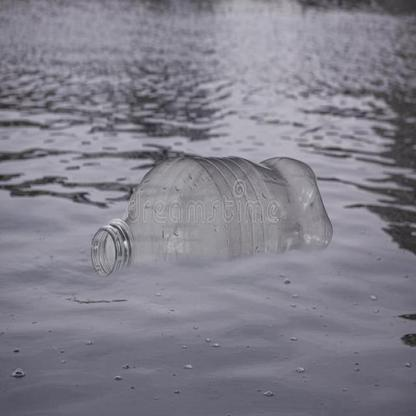plastic bottle: (86, 154, 336, 278)
